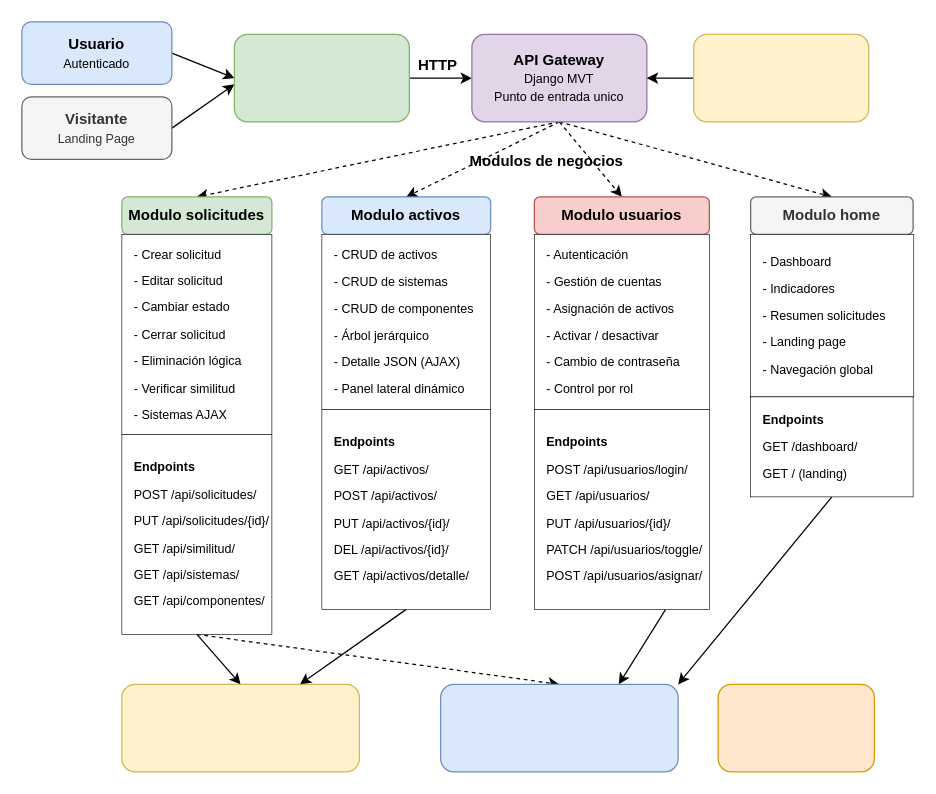
The diagram is 936 pixels wide and 794 high, and some of its shapes have lost their labels. The centre of each missing label's shape, as x and y in pixels:
"Aplicación web Frontend HTML-CSS-JS-Bootstrap 5" belongs at [321,77].
"Base de datos principal SQLite (desarrollo) PostgreSQL / MySQL (producción)" belongs at [240,727].
"Estaticos CSS - JS - IMG" belongs at [795,727].
"Logs y auditoría Seguimientos Historial de cambios" belongs at [558,727].
"Servicios de autenticación Login - Logout - Sesiones" belongs at [780,77].
